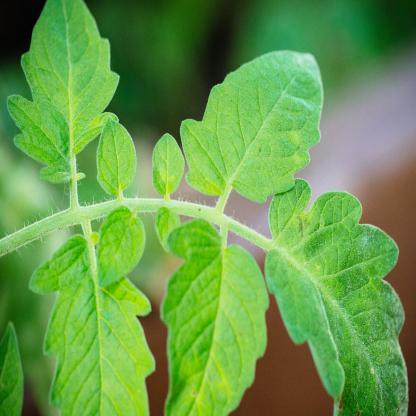tomato leaf: (271, 181, 415, 414), (187, 44, 323, 213), (33, 230, 155, 416), (165, 215, 262, 416), (6, 2, 107, 187), (97, 202, 152, 287), (96, 122, 140, 205), (149, 127, 184, 205)
